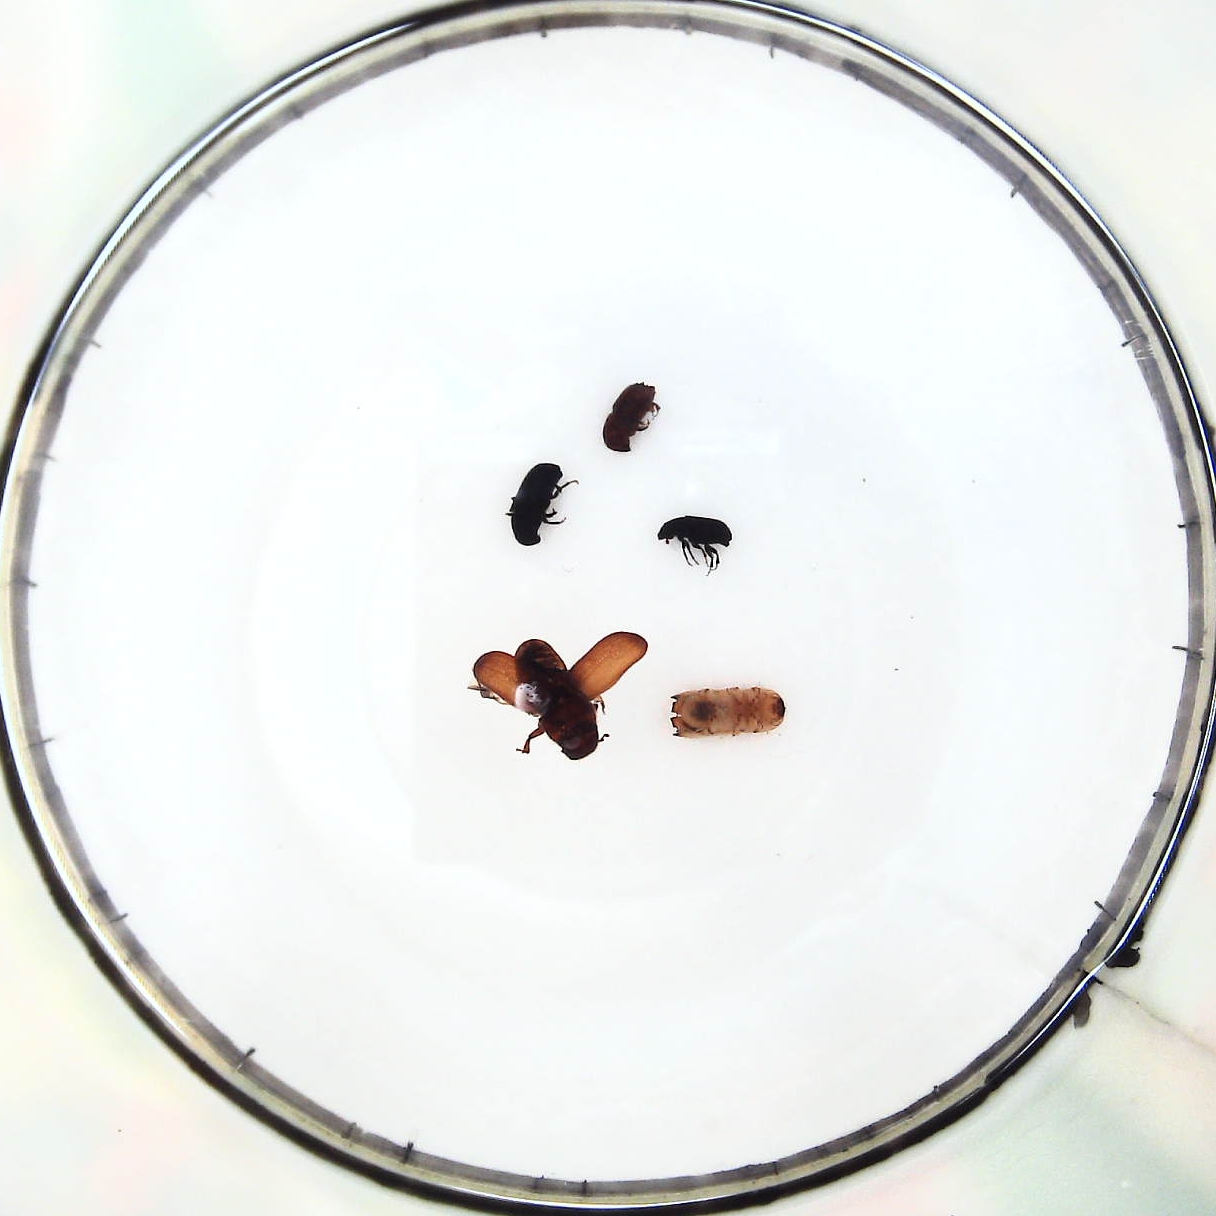Boerner: (668, 685, 784, 743)
Leconte: (474, 631, 649, 761)
Linnaeus: (605, 380, 659, 453)
armandi: (506, 462, 571, 545)
coleoptera: (661, 514, 738, 573)
